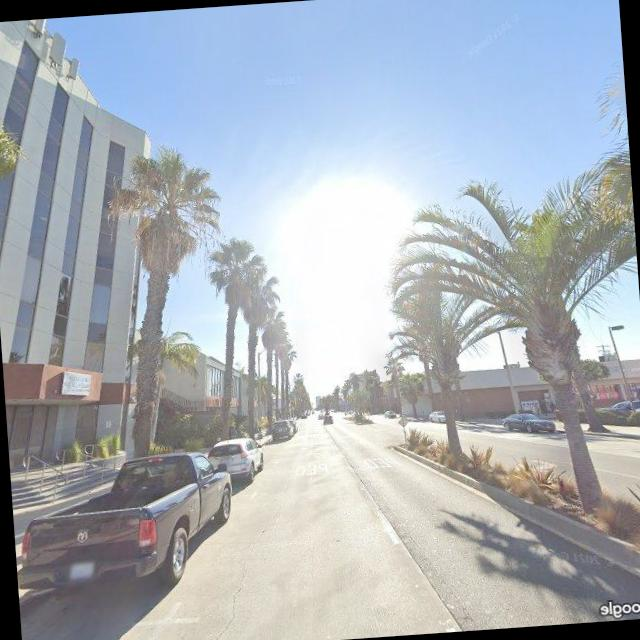pothole: (184, 544, 263, 640)
